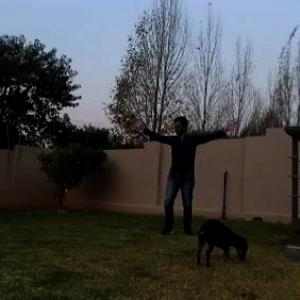takeoff: (134, 113, 252, 247)
